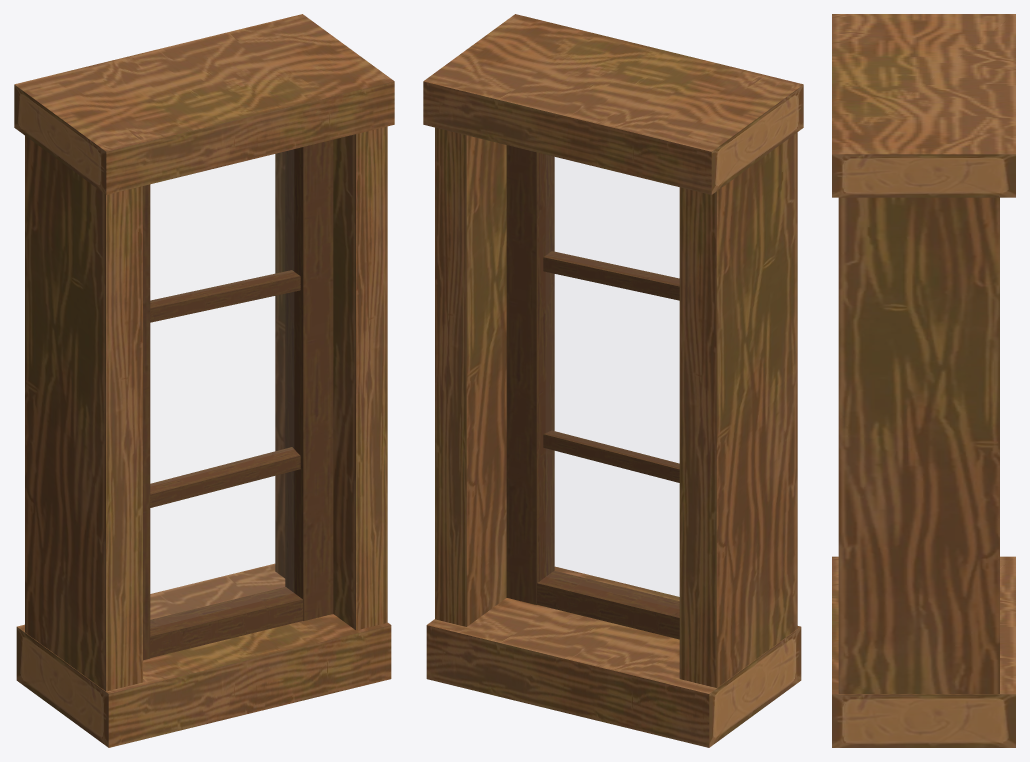
The model's file is Window_Thin_Flat1.glb.
3 views of the same model, side by side, from view 1: azimuth 30°, elevation 25°; view 2: azimuth 150°, elevation 25°; view 3: azimuth 270°, elevation 25° (orthographic).
Visible parts, largest first — view 1: Window_Thin_Flat1; view 2: Window_Thin_Flat1; view 3: Window_Thin_Flat1.
Boxes of the visible parts, left/top/right/bottom form: Window_Thin_Flat1: left=14, top=14, right=394, bottom=747; Window_Thin_Flat1: left=423, top=14, right=803, bottom=747; Window_Thin_Flat1: left=832, top=14, right=1015, bottom=747.
Size of the model in its own units: 0.788 by 1.56 by 0.4358.
Materials: 2 (1 with a texture image).
